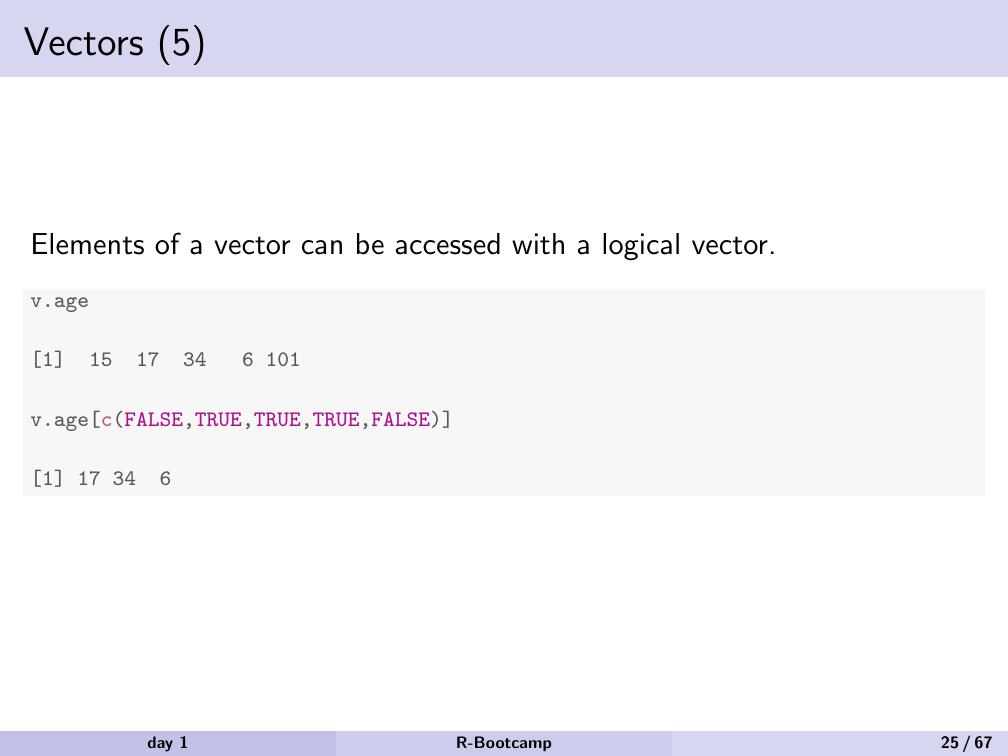Title: (15, 17, 217, 77)
